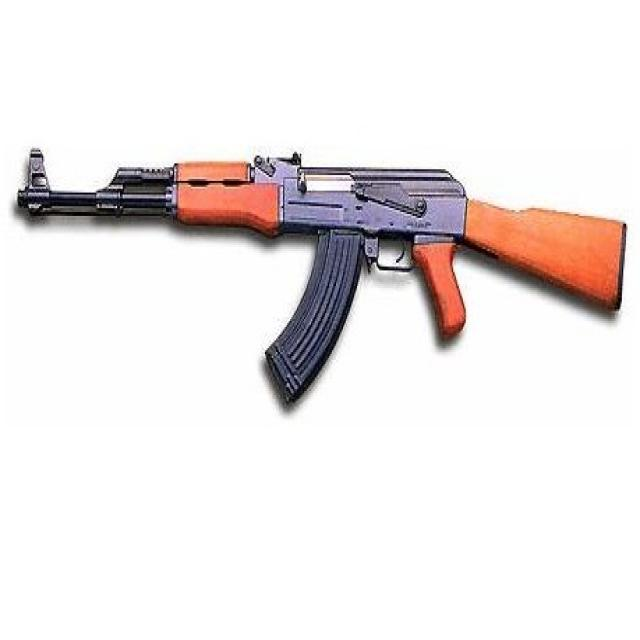Gun: (16, 127, 634, 413)
